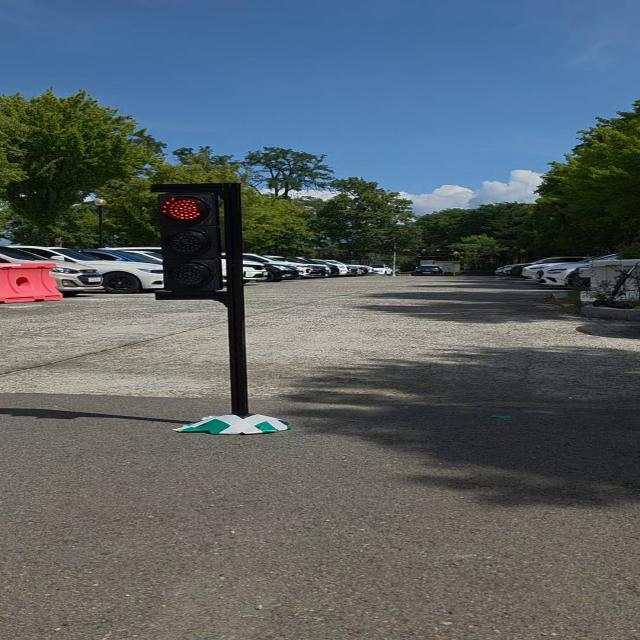red: (148, 185, 243, 302)
